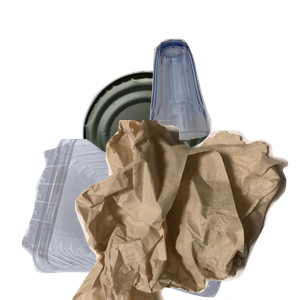glass: (147, 36, 300, 168)
metal: (80, 68, 284, 248)
plastic: (19, 139, 249, 300)
trash: (70, 120, 300, 300)
